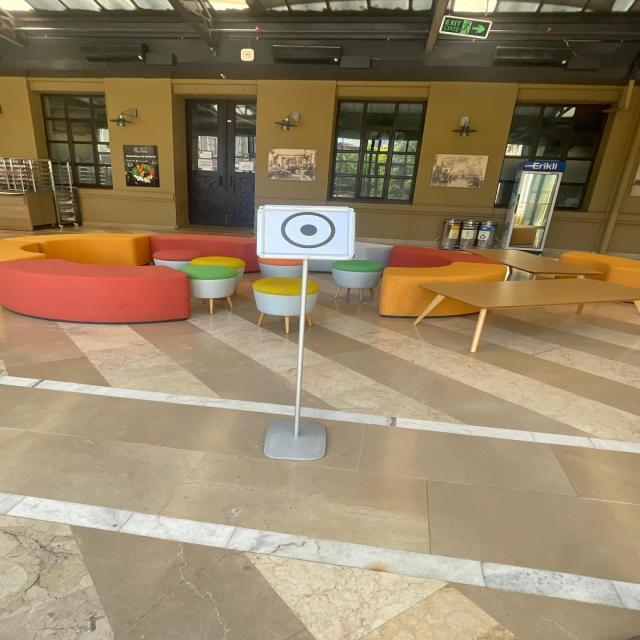Target: (248, 186, 367, 274)
inner: (297, 216, 323, 240)
